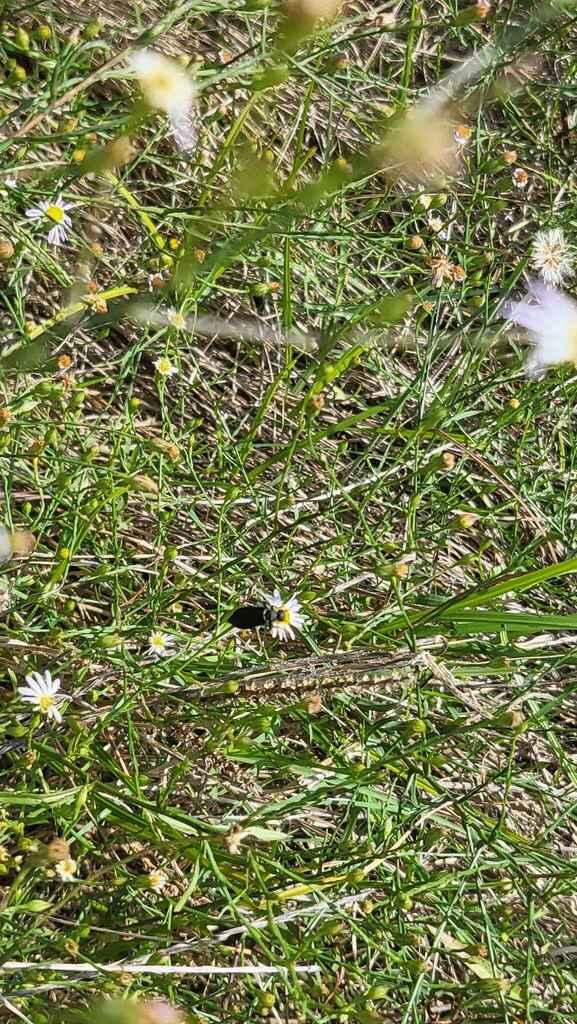blister_beetle: (221, 594, 288, 646)
